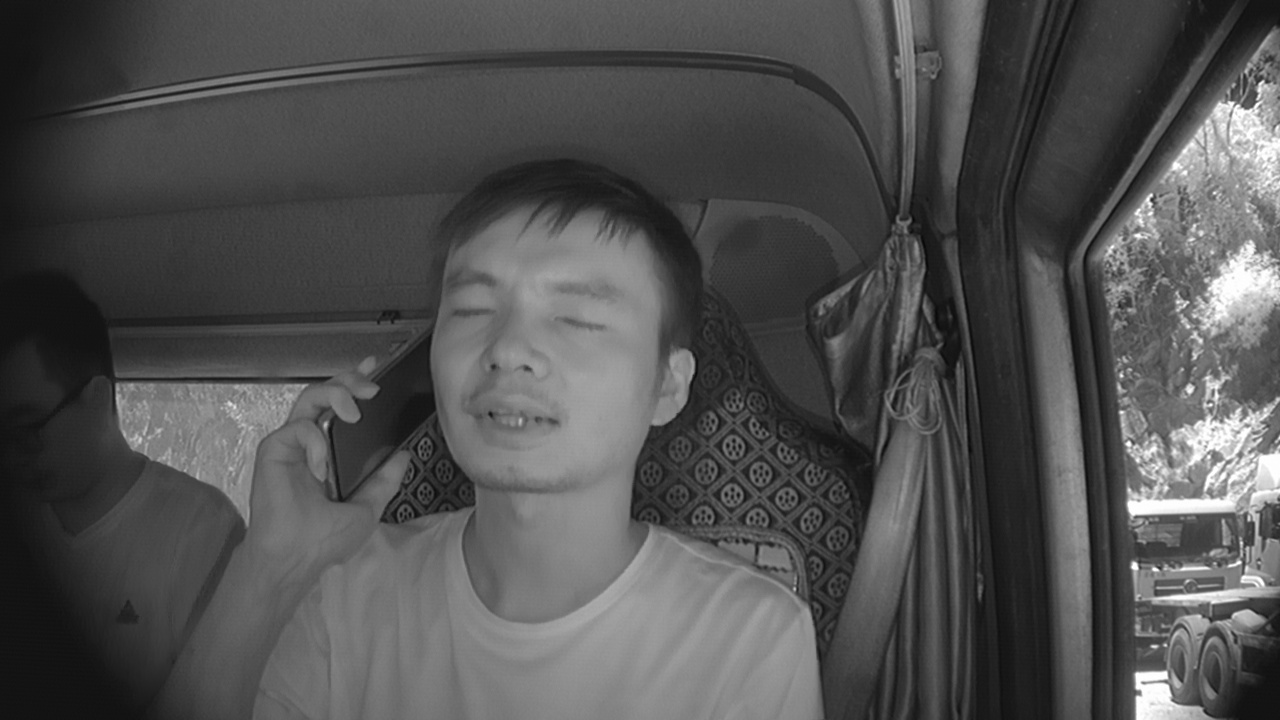hand: (242, 352, 415, 557)
